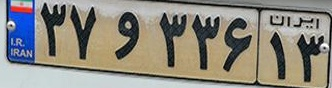character: (222, 10, 254, 78), (190, 8, 221, 75), (157, 8, 189, 72), (69, 1, 101, 63), (111, 6, 143, 65), (38, 1, 68, 59), (294, 31, 326, 83), (266, 28, 291, 80)
